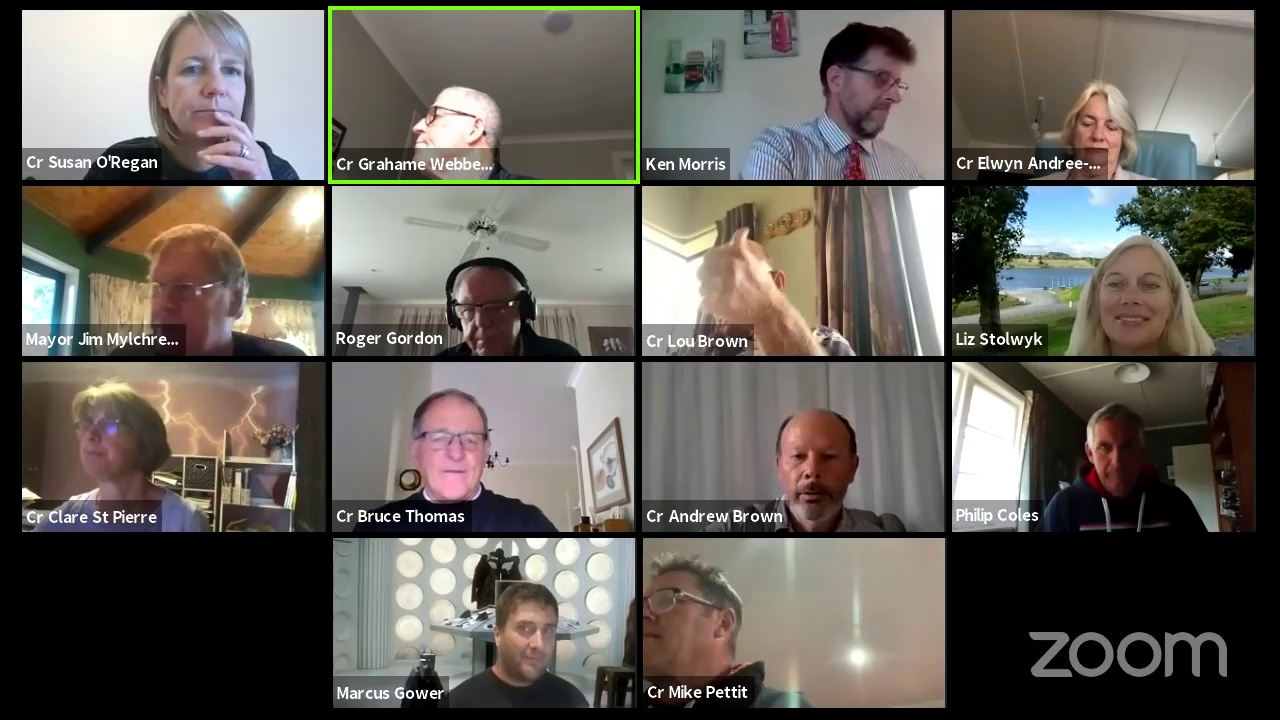Distracted: (142, 225, 233, 344), (825, 32, 912, 134), (647, 564, 717, 675), (408, 83, 497, 170), (699, 242, 779, 338), (75, 391, 158, 478), (1070, 89, 1131, 161)
Not Distracted: (148, 20, 251, 141), (767, 415, 854, 515), (443, 264, 531, 346), (412, 400, 483, 494), (1098, 253, 1174, 338), (499, 598, 561, 675), (1088, 419, 1142, 491)
